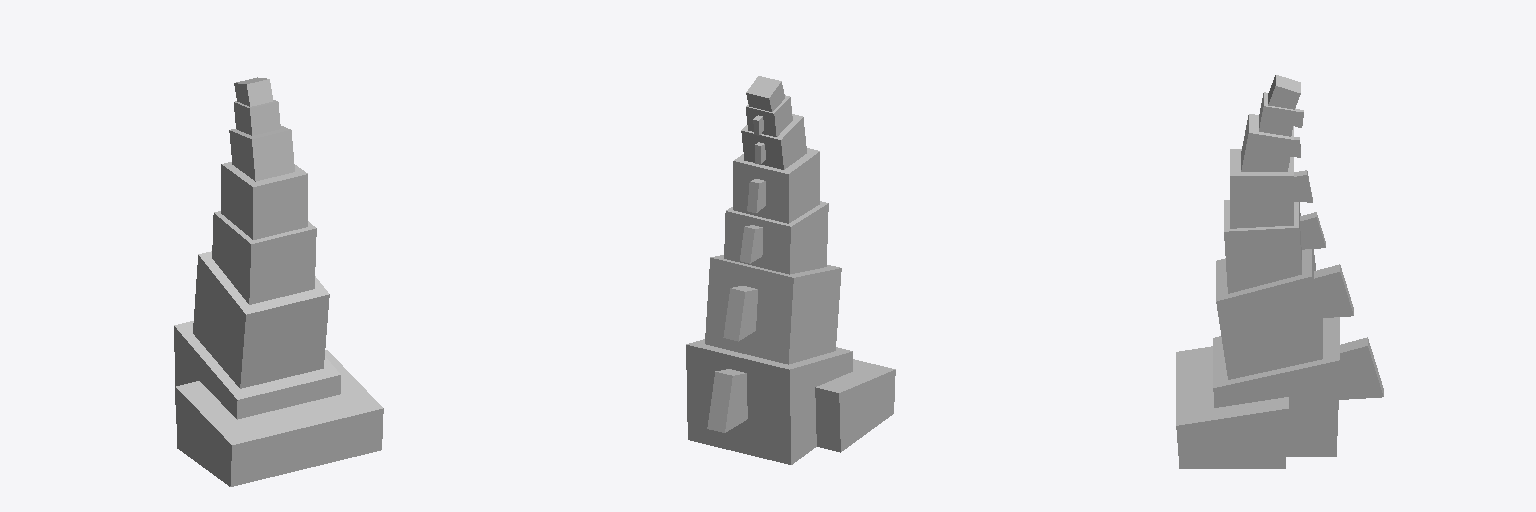
File: littledragon.obj
3 renders of one model, left to right at view 1: azimuth 30°, elevation 25°; view 2: azimuth 150°, elevation 25°; view 3: azimuth 270°, elevation 25°, orthographic.
Visible parts, largest first — view 1: polySurface17 polySurface15; view 2: polySurface17 polySurface15, textureEditorIsolateSelectSet polySurface17 polySurface15; view 3: polySurface17 polySurface15, textureEditorIsolateSelectSet polySurface17 polySurface15.
Boxes of the visible parts, x1=… form: polySurface17 polySurface15: x1=174, y1=77, x2=383, y2=486; polySurface17 polySurface15: x1=686, y1=76, x2=895, y2=464; textureEditorIsolateSelectSet polySurface17 polySurface15: x1=707, y1=115, x2=765, y2=432; polySurface17 polySurface15: x1=1176, y1=75, x2=1339, y2=468; textureEditorIsolateSelectSet polySurface17 polySurface15: x1=1291, y1=109, x2=1383, y2=399.
Bounding box in the file's own units: 0.4657 × 1.03 × 0.5523.